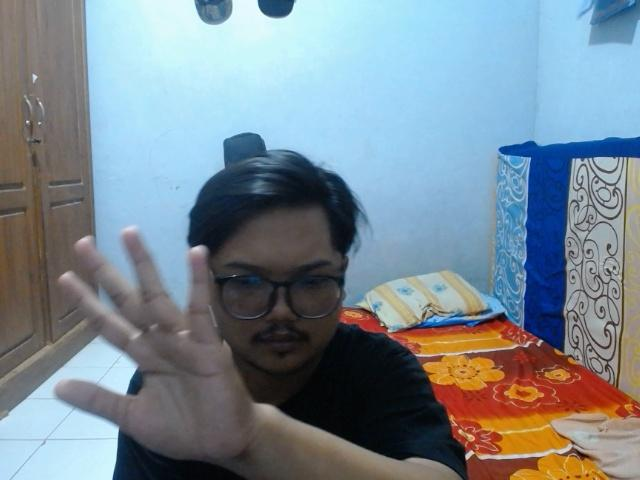Release: (47, 222, 249, 470)
